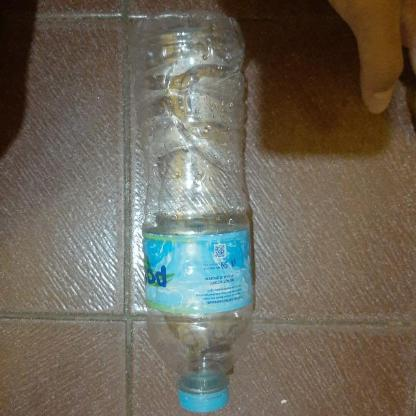Plastic Bottle: (126, 8, 254, 416)
